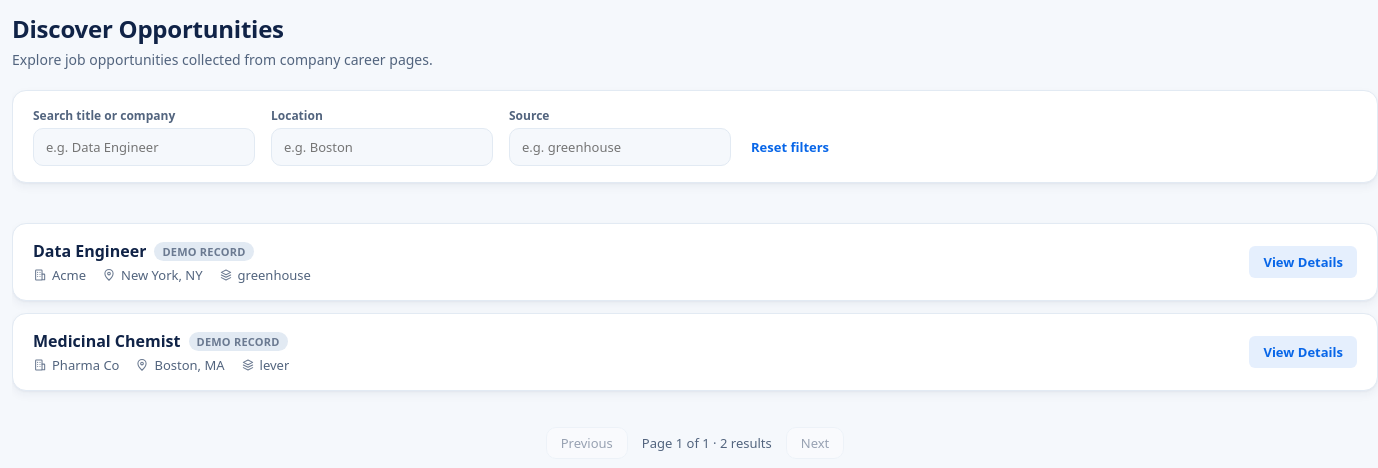
Test: DiscoverJobs › filters by title/company search text
Expected: the link "Data Engineer" is shown, [33, 240, 146, 262]
Type "chemist" into the search field labelled "Search title or company" at coordinates (144, 147), box [33, 128, 255, 166]
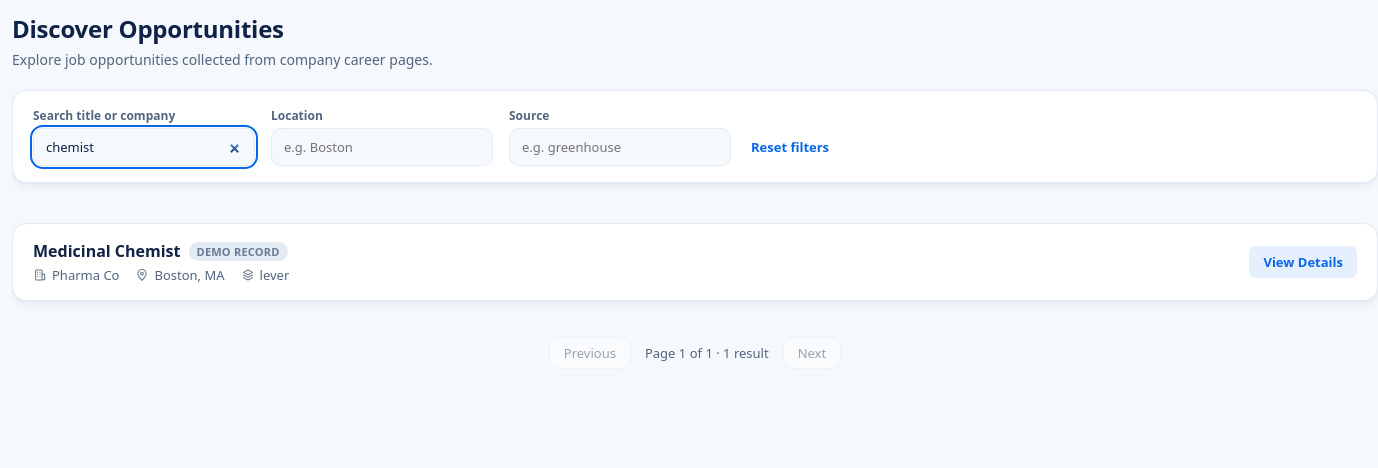
Expected: the link "Medicinal Chemist" is shown, [33, 240, 180, 262]
Expected: the link "Data Engineer" is gone
